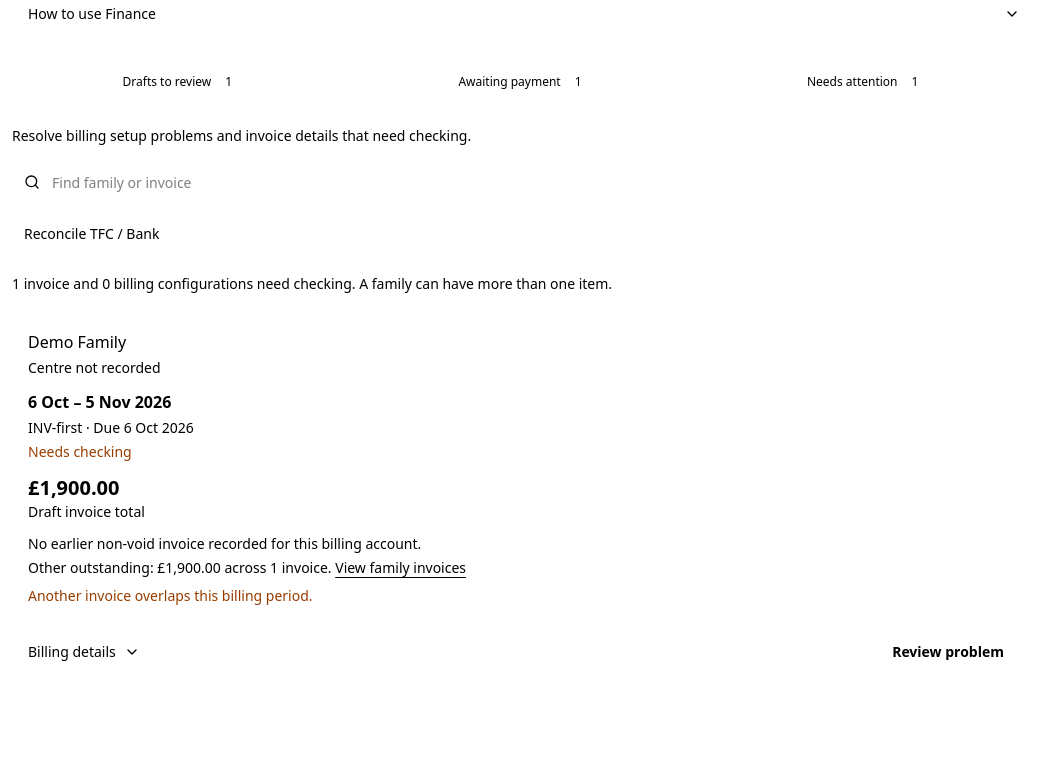
Scenario: daily finance workflow › puts overlap reasons on attention cards and offers review rather than issuance
Expected: the text "Another invoice overlaps this billing period." is shown, [28,586,313,605]
Step 1. Click the button with aria-label "Review problem INV-first" → (948, 652), box [876,630,1020,674]
(page scrolled)
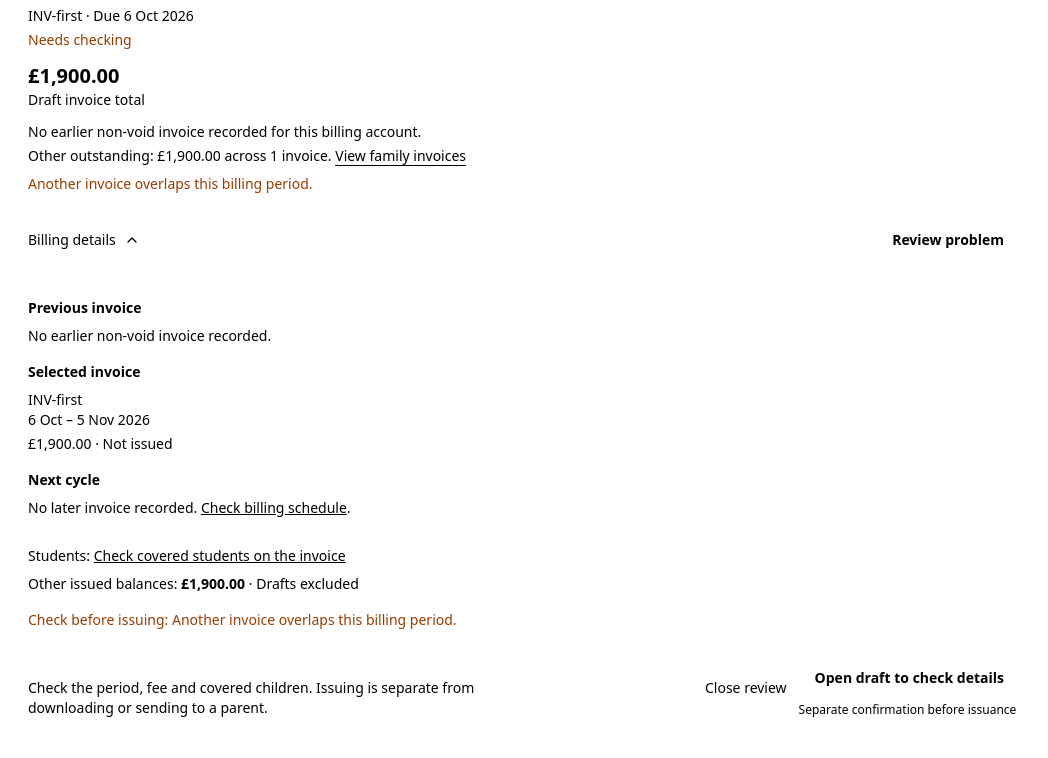
Expected: the link "Open draft to check details" is shown, [815,668,1004,687]
